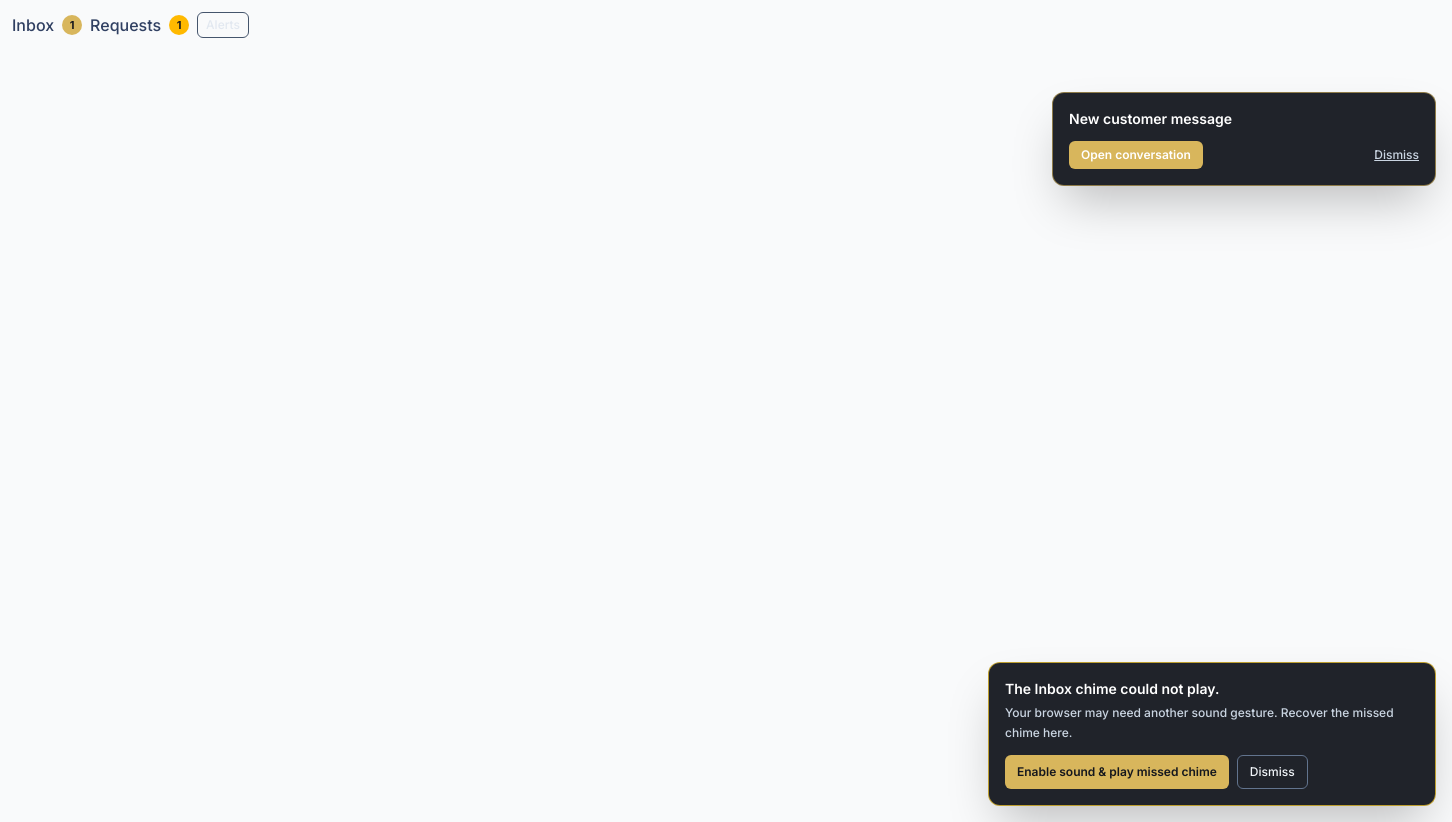
Scenario: Admin Inbox automatic sound recovery › offers a visible user-gesture recovery when saved sound preferences outlive audio unlock
The image size is (1452, 822).
Expected: the message shows "The Inbox chime could not play.", [1005,680,1219,697]
Click the button "Enable sound & play missed chime" at (1117, 772), box [1005,755,1229,789]
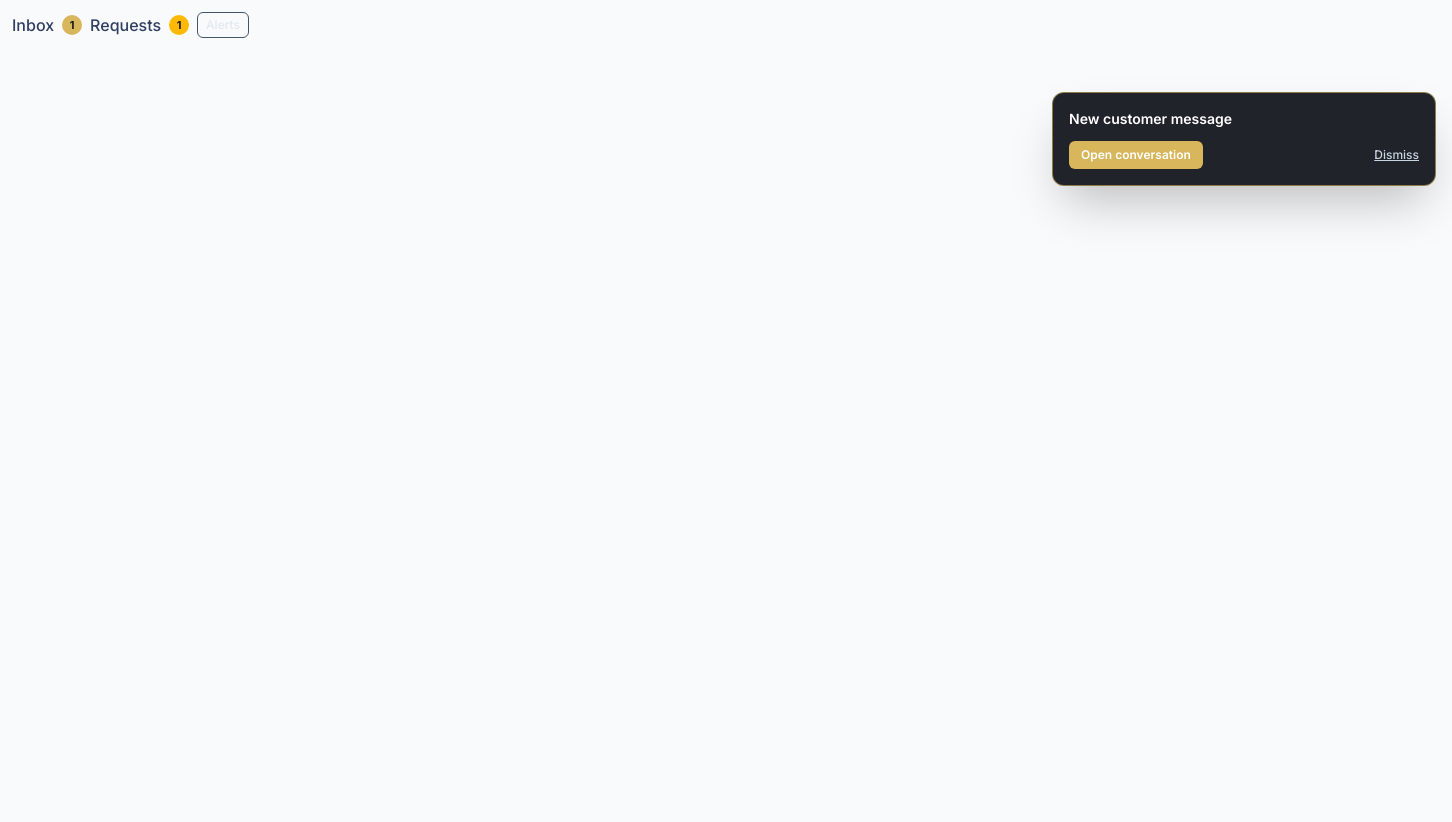
Result: the message is gone
